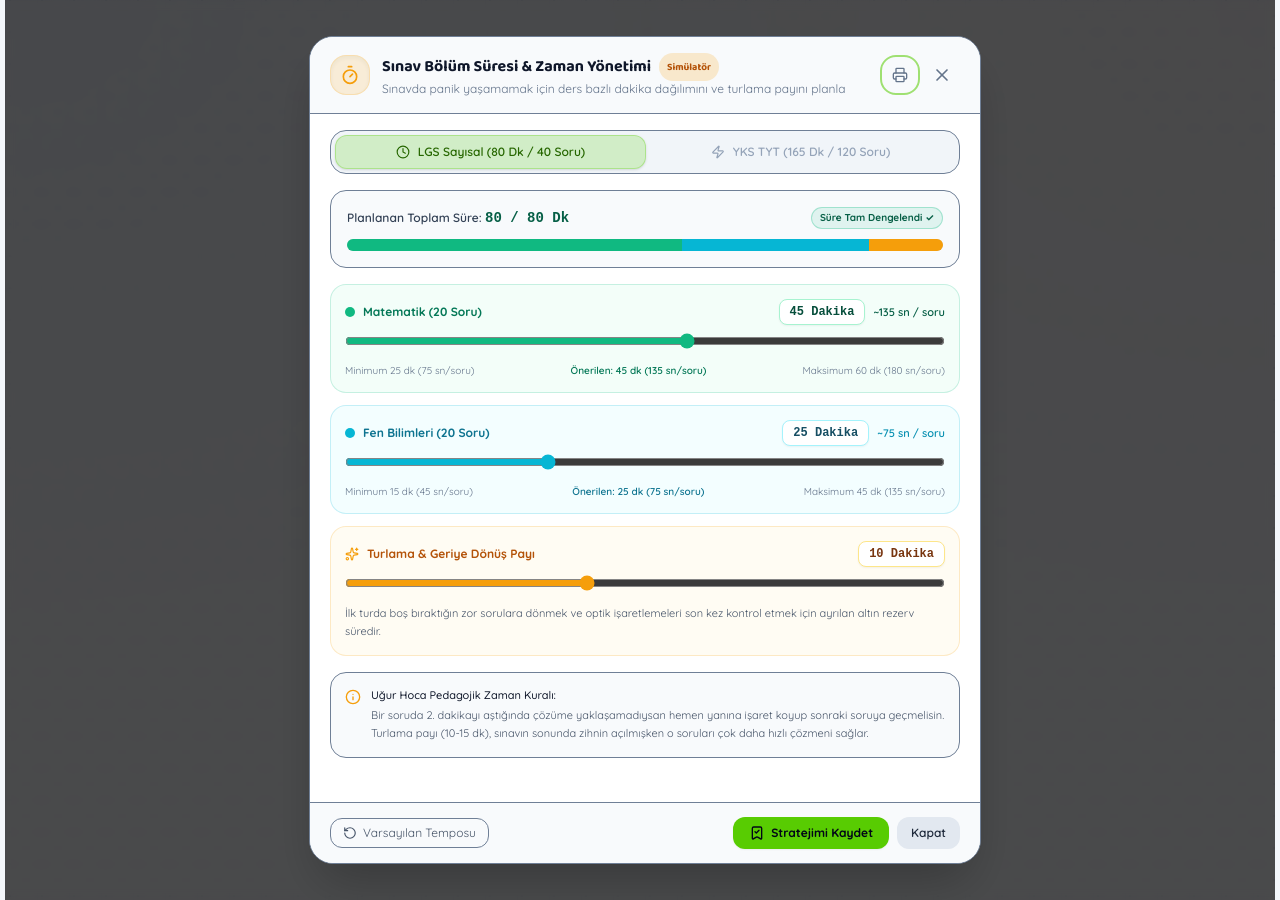
Test: ExamPacingStrategyModal › allows adjusting slider and recalculates remaining or overflow time
Set the slider named "LGS Matematik süresi" to "55": (854, 341) [345,333,945,349]
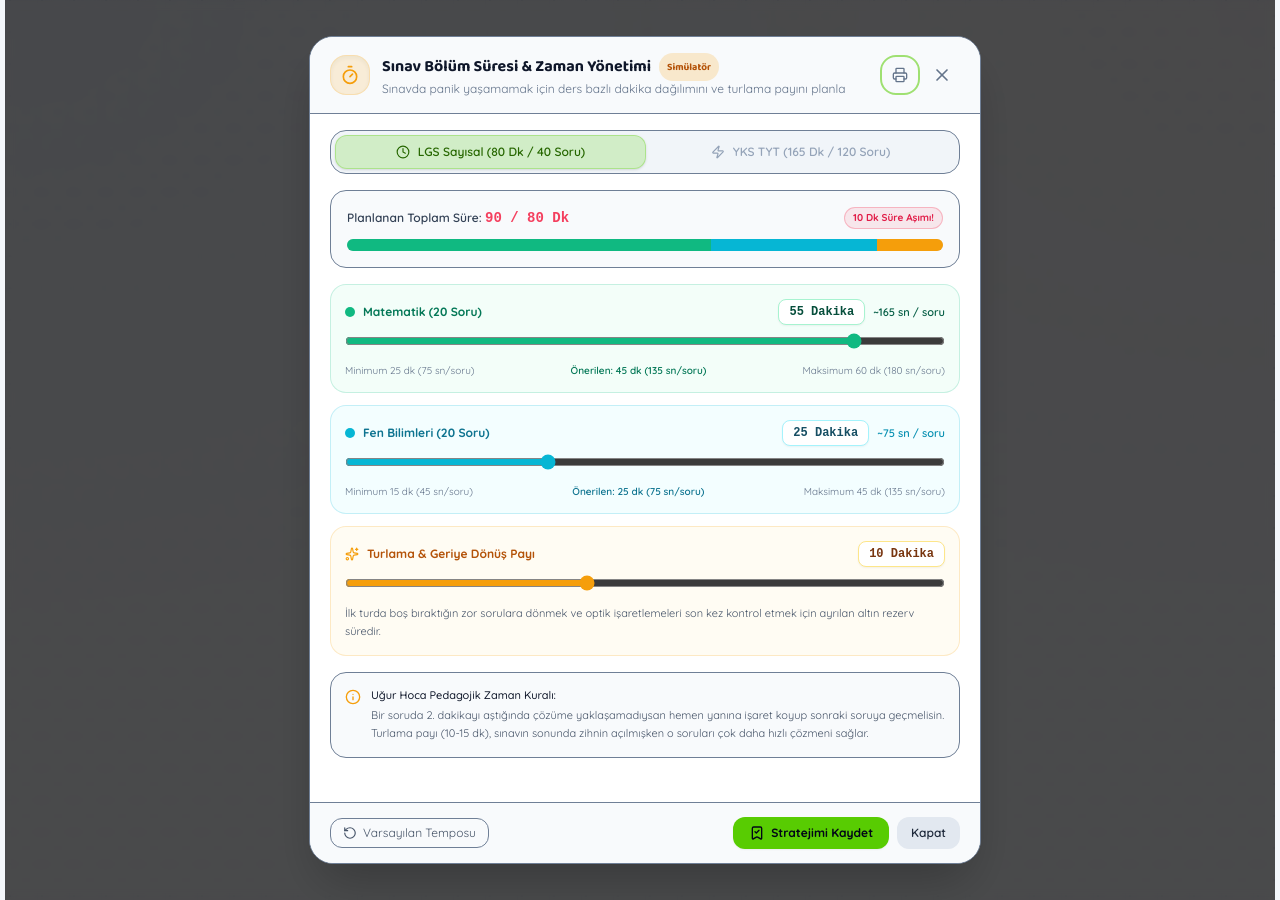
Now the text "90 / 80 Dk" is shown, box [485,210,569,226]
Now the text "10 Dk Süre Aşımı!" is shown, box [844,207,943,229]
